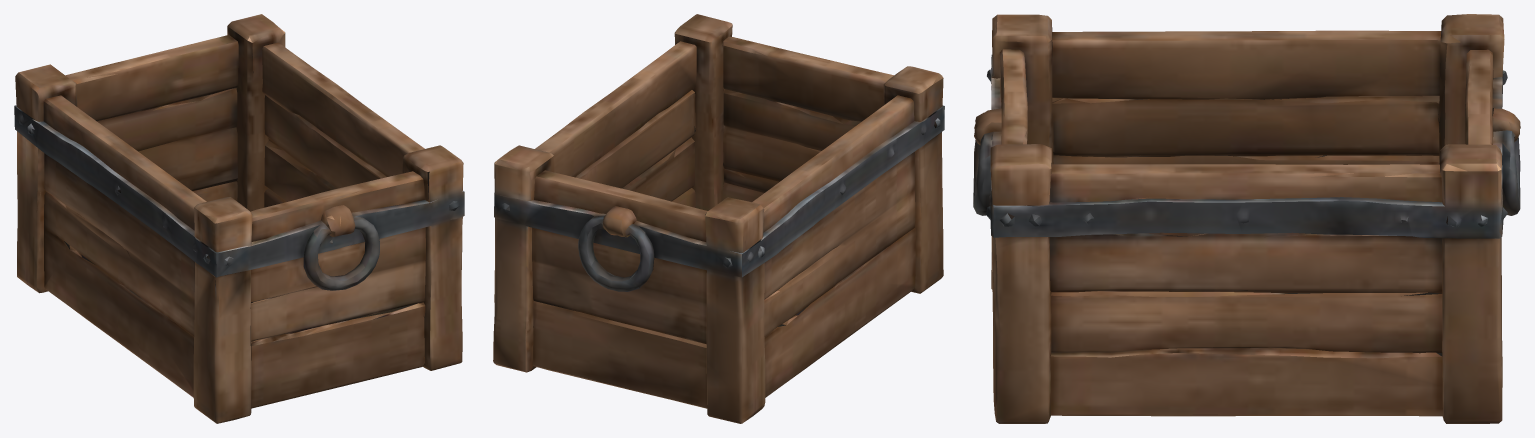
Rendered from CrateOpen.glb.
3 views of the same model, side by side, from view 1: azimuth 30°, elevation 25°; view 2: azimuth 150°, elevation 25°; view 3: azimuth 270°, elevation 25° (orthographic). The views are drawn at different scales.
Parts seen in each view (by area): view 1: CrateOpen; view 2: CrateOpen; view 3: CrateOpen.
Part boxes in pixels (x1=…): CrateOpen: x1=14, y1=14, x2=464, y2=423; CrateOpen: x1=493, y1=14, x2=944, y2=423; CrateOpen: x1=973, y1=14, x2=1520, y2=423.
Size of the model in its own units: 1.1 by 0.8393 by 1.6.
1 material, 1 textured.
